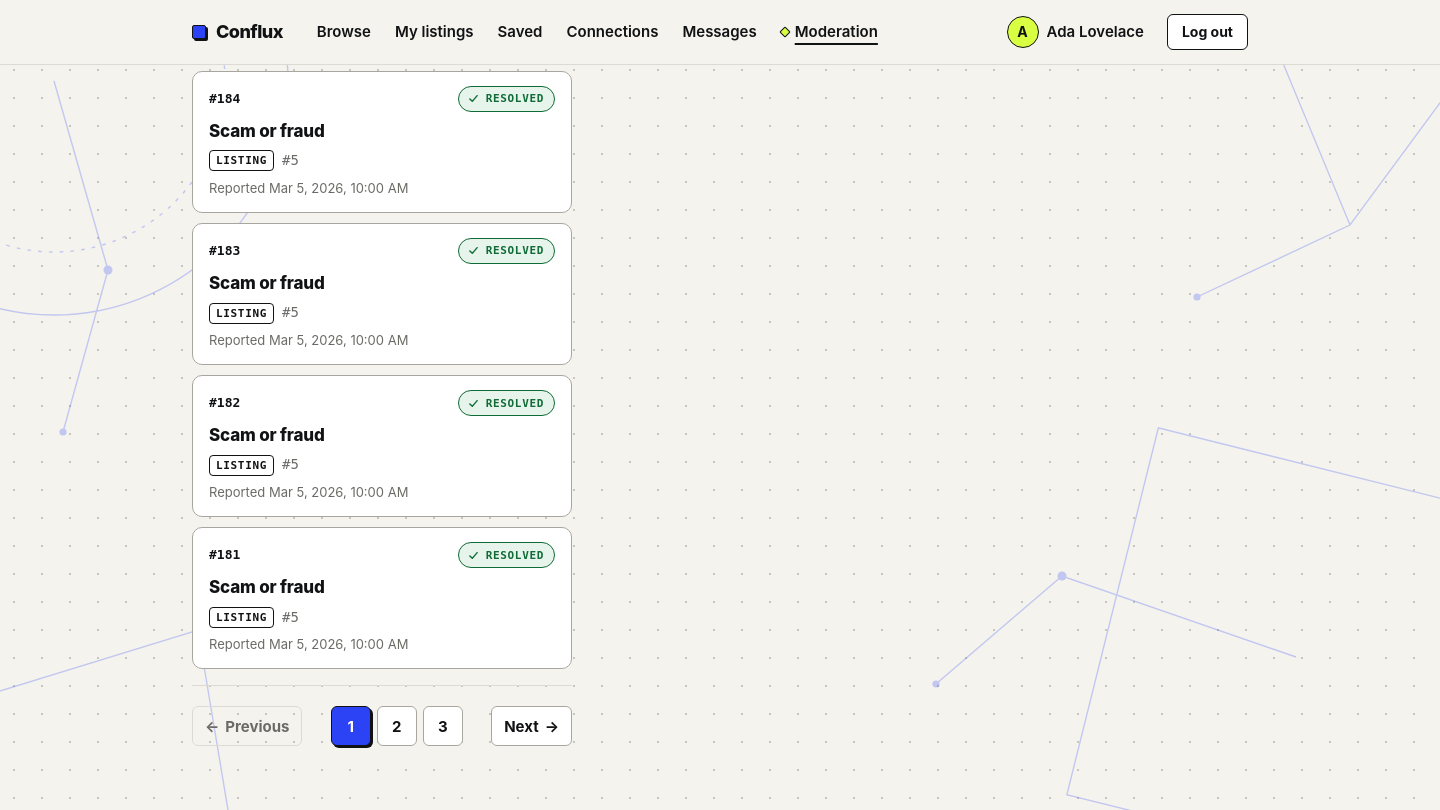
Test: Report queue › pages through the queue with the backend’s zero-based pages and keeps the filter
The image size is (1440, 810).
(page scrolled)
What coordinates should you click on to do the following:
click the link "Next →"
I would click on:
 (532, 726)
Its box is 491,706 -> 572,746.
(page scrolled)
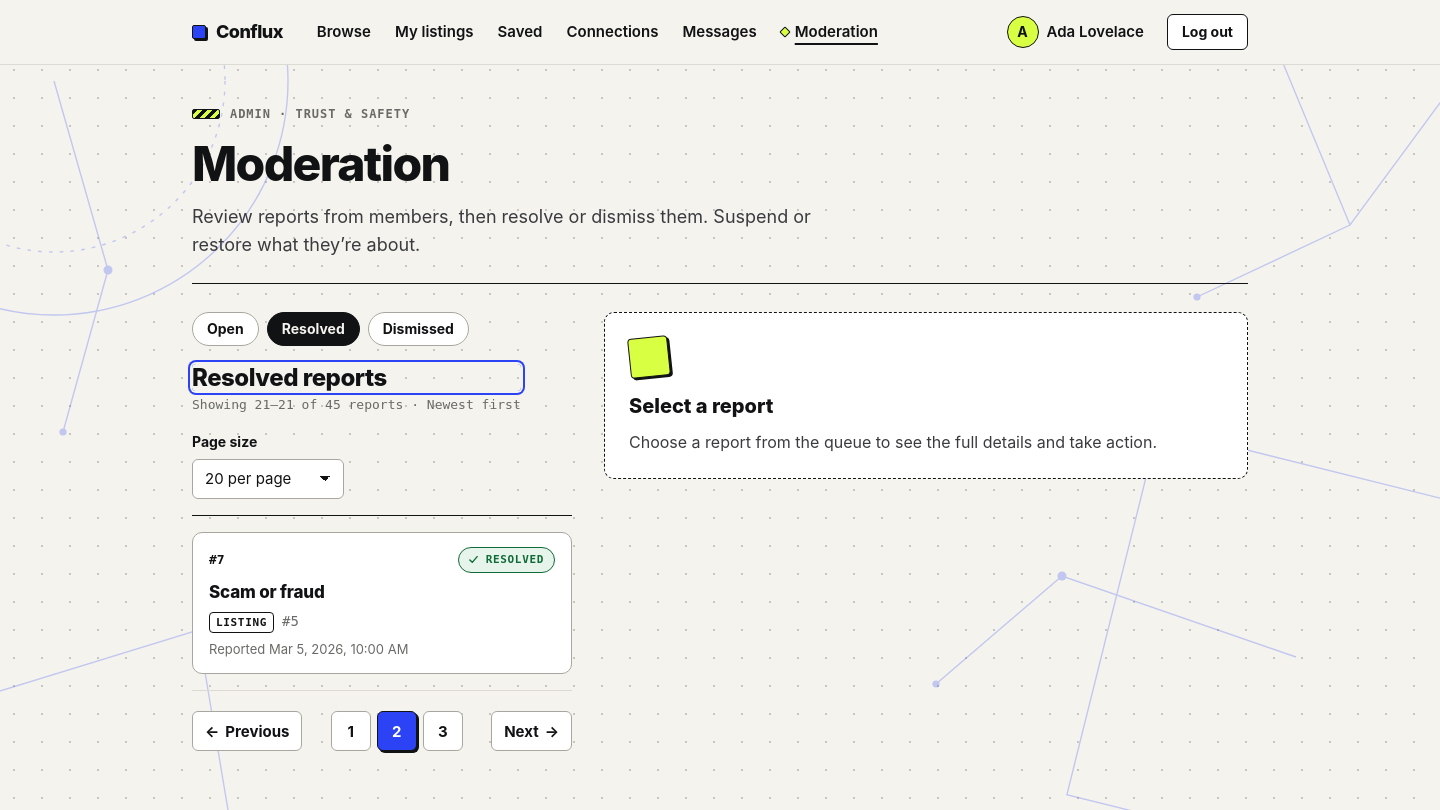
expect the link with aria-label "Report #7," is shown: met, box 192,532 -> 572,674
